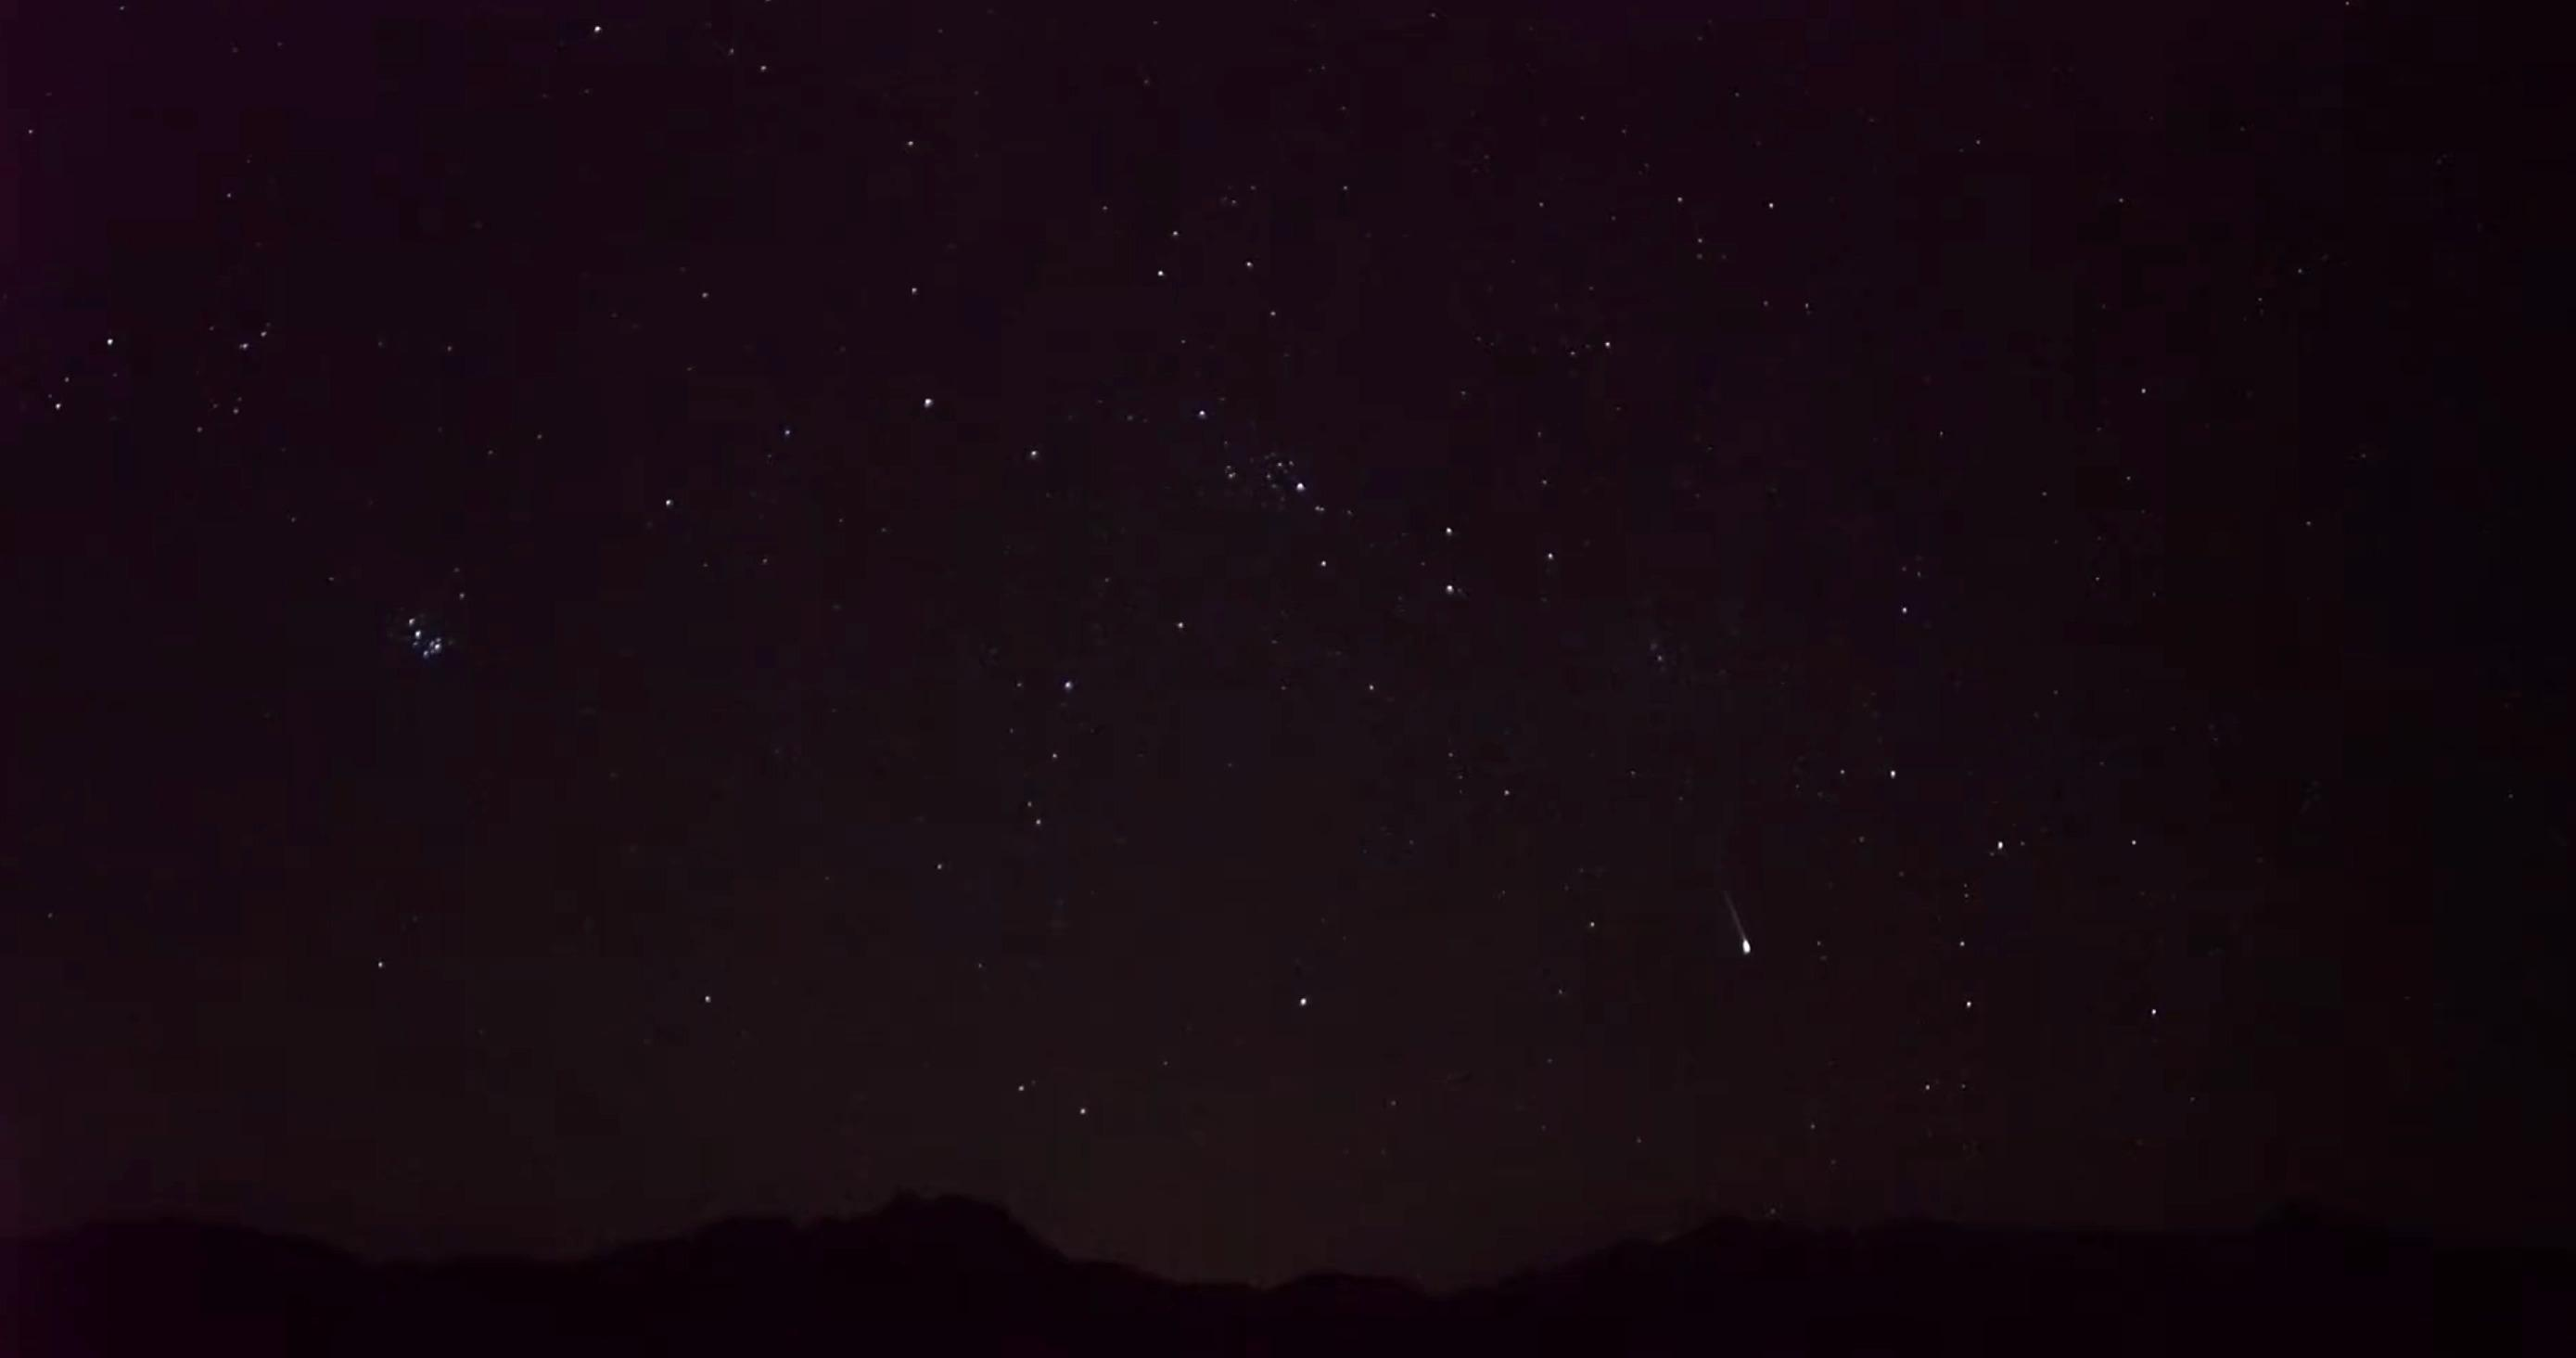meteorite: (1670, 879, 1794, 966)
